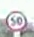limite 50: (3, 10, 29, 31)
